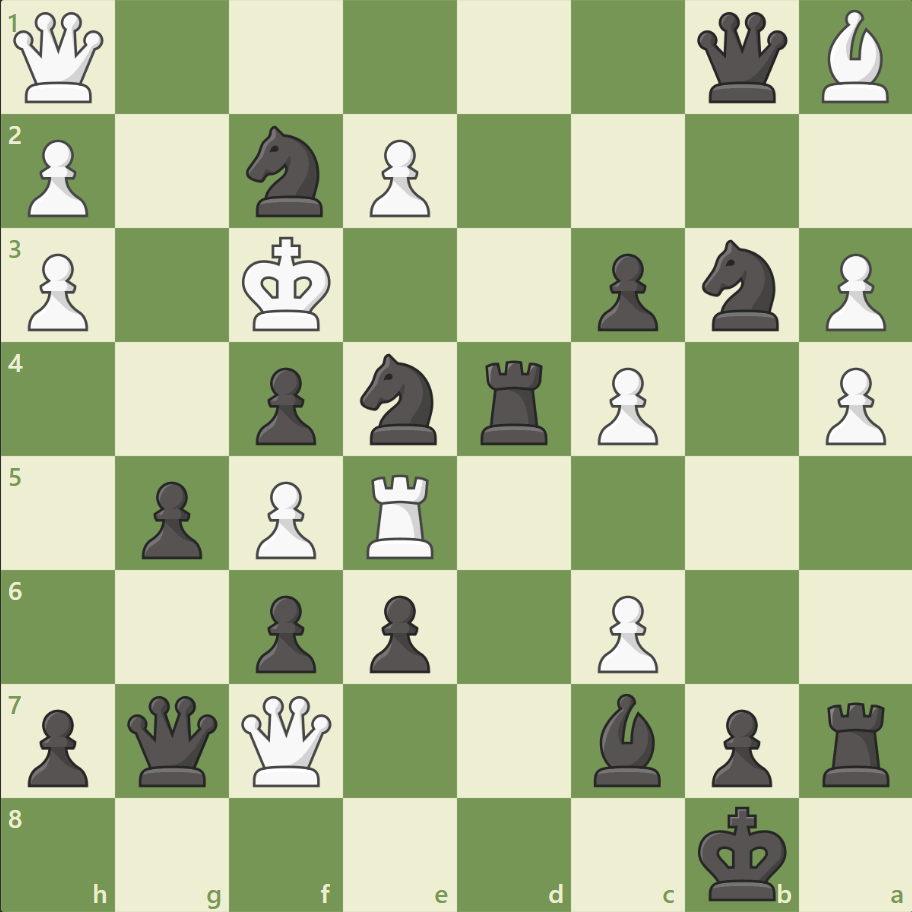B: (812, 6, 896, 109)
K: (238, 231, 338, 339)
P: (247, 473, 322, 564), (20, 246, 95, 337), (20, 132, 95, 223), (588, 586, 662, 677), (815, 359, 889, 450), (588, 359, 662, 450), (815, 246, 889, 337), (361, 132, 435, 223)
Q: (237, 690, 336, 789), (10, 9, 109, 108)
R: (360, 466, 442, 563)
b: (585, 687, 669, 790)
k: (692, 798, 792, 906)
n: (351, 348, 449, 450), (692, 234, 789, 337), (238, 121, 335, 223)
p: (701, 700, 776, 791), (20, 700, 95, 791), (247, 586, 322, 677), (133, 473, 208, 564), (247, 359, 322, 450), (361, 586, 435, 677), (588, 246, 662, 337)
q: (124, 690, 223, 789), (691, 9, 790, 108)
r: (814, 693, 897, 790), (473, 352, 556, 449)
